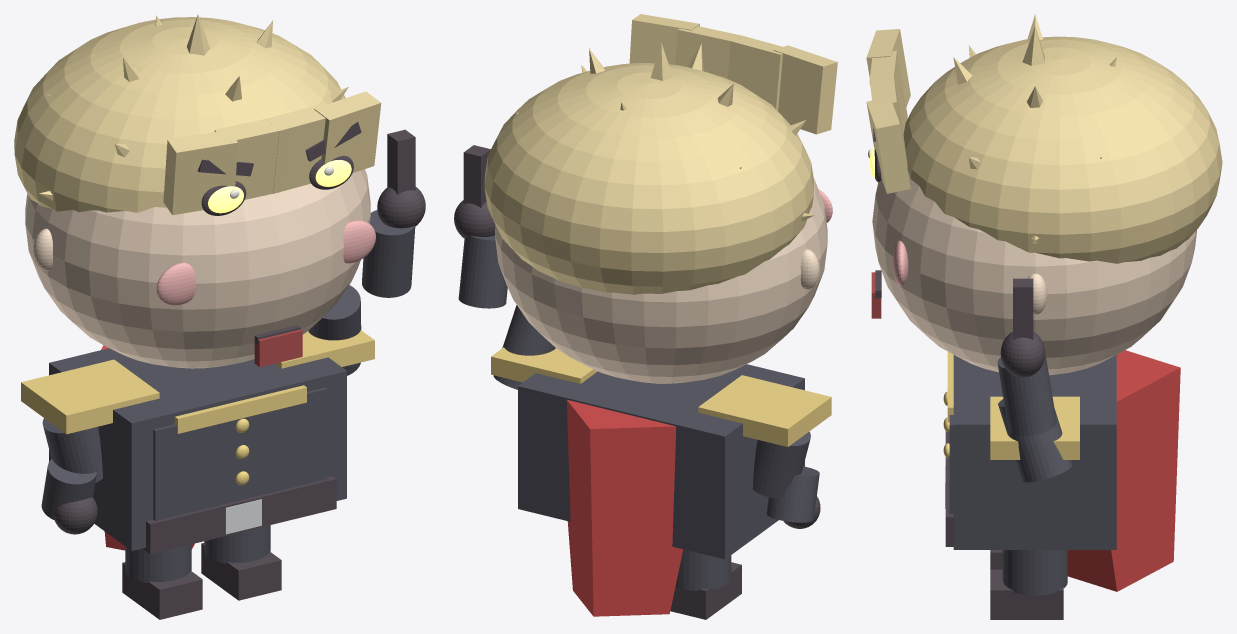
File: leader.glb
The picture shows the model from 3 angles, left to right: view 1: azimuth 30°, elevation 25°; view 2: azimuth 150°, elevation 25°; view 3: azimuth 270°, elevation 25°; orthographic projection. The views are drawn at different scales.
Parts seen in each view (by area): view 1: Head, HairCap, Coat, CoatFront, Epaulet_L, Belt, Fringe_0, Fringe_3, Forearm_R, Fringe_1, Fringe_2, Shoe_R (+19 smaller); view 2: HairCap, Head, Coat, Cape, Epaulet_L, Fringe_0, Forearm_R, Fringe_1, UpperArm_L, Epaulet_R, Fringe_3, Fringe_2 (+7 smaller); view 3: HairCap, Head, Coat, Cape, Forearm_R, Leg_R, Fringe_3, Epaulet_R, UpperArm_R, Shoe_R, Hand_R, PointFinger (+8 smaller).
Boxes of the visible parts, x1=… form: Head: x1=25, y1=169, x2=370, y2=368; HairCap: x1=14, y1=17, x2=345, y2=212; Coat: x1=49, y1=348, x2=346, y2=550; CoatFront: x1=153, y1=387, x2=327, y2=520; Epaulet_L: x1=21, y1=359, x2=159, y2=434; Belt: x1=142, y1=476, x2=336, y2=554; Fringe_0: x1=163, y1=129, x2=237, y2=215; Fringe_3: x1=314, y1=91, x2=381, y2=173; Forearm_R: x1=362, y1=210, x2=415, y2=297; Fringe_1: x1=214, y1=117, x2=284, y2=199; Fringe_2: x1=266, y1=103, x2=325, y2=193; Shoe_R: x1=201, y1=543, x2=281, y2=600; HairCap: x1=484, y1=63, x2=814, y2=294; Head: x1=495, y1=178, x2=827, y2=383; Coat: x1=518, y1=364, x2=804, y2=559; Cape: x1=566, y1=400, x2=683, y2=616; Epaulet_L: x1=698, y1=375, x2=831, y2=446; Fringe_0: x1=773, y1=45, x2=837, y2=134; Forearm_R: x1=458, y1=235, x2=507, y2=308; Fringe_1: x1=727, y1=35, x2=782, y2=110; UpperArm_L: x1=752, y1=431, x2=810, y2=498; Epaulet_R: x1=491, y1=347, x2=597, y2=383; Fringe_3: x1=629, y1=14, x2=699, y2=64; Fringe_2: x1=675, y1=26, x2=744, y2=78; HairCap: x1=903, y1=36, x2=1222, y2=263; Head: x1=872, y1=171, x2=1197, y2=375; Coat: x1=953, y1=355, x2=1116, y2=549; Cape: x1=1067, y1=350, x2=1180, y2=591; Forearm_R: x1=997, y1=355, x2=1056, y2=435; Leg_R: x1=1002, y1=550, x2=1067, y2=595; Fringe_3: x1=866, y1=97, x2=910, y2=193; Epaulet_R: x1=990, y1=396, x2=1079, y2=459; UpperArm_R: x1=998, y1=399, x2=1072, y2=482; Shoe_R: x1=990, y1=569, x2=1063, y2=619; Hand_R: x1=1000, y1=331, x2=1045, y2=377; PointFinger: x1=1013, y1=278, x2=1033, y2=339.
Bounding box in the file's own units: 1.39 × 2 × 1.14.
